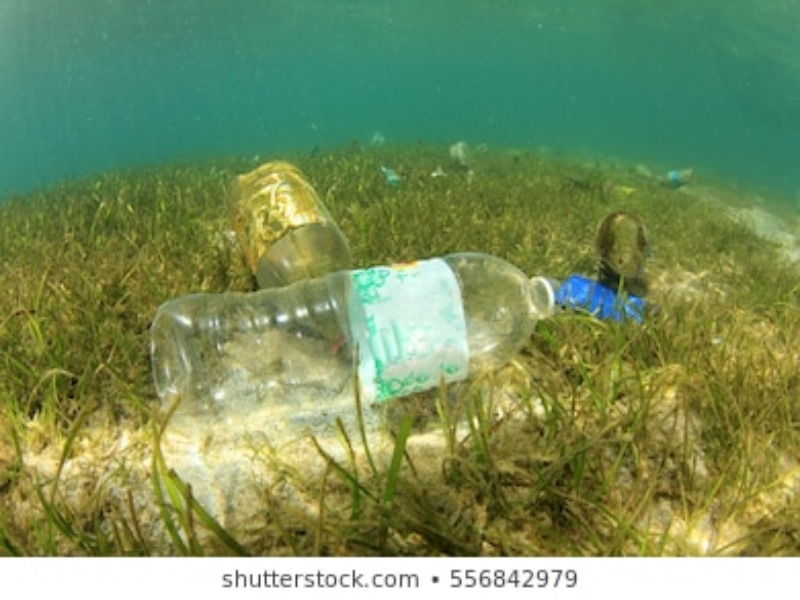plastic-bottle: (147, 249, 566, 433)
